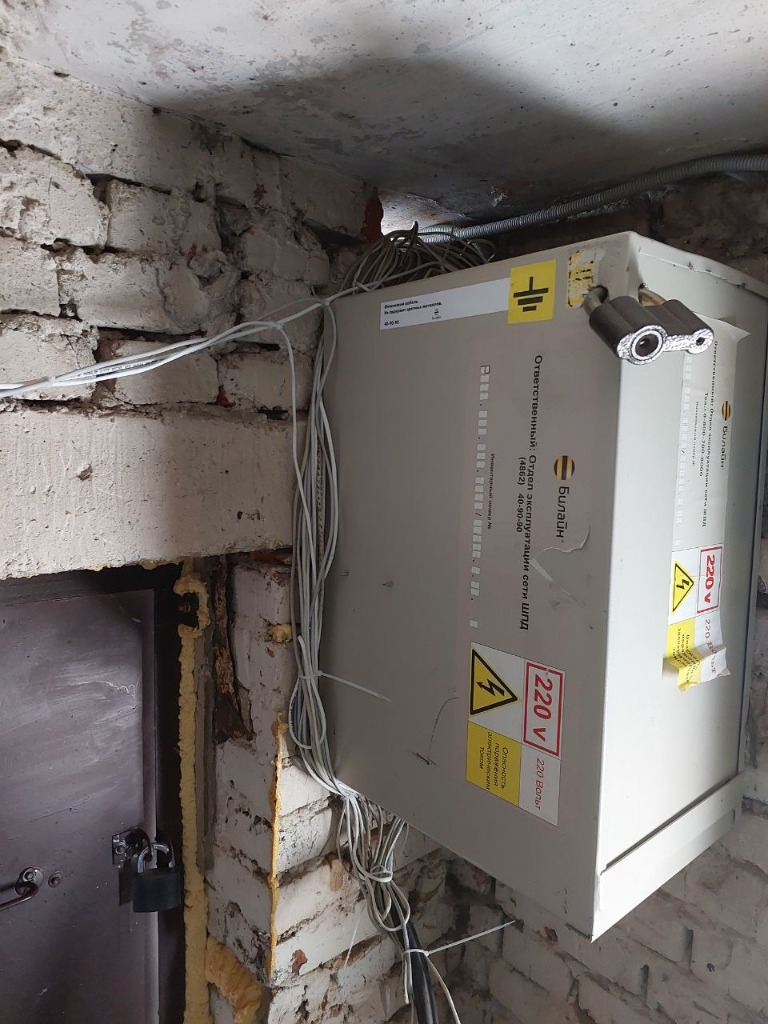sv-5: (294, 225, 764, 946)
